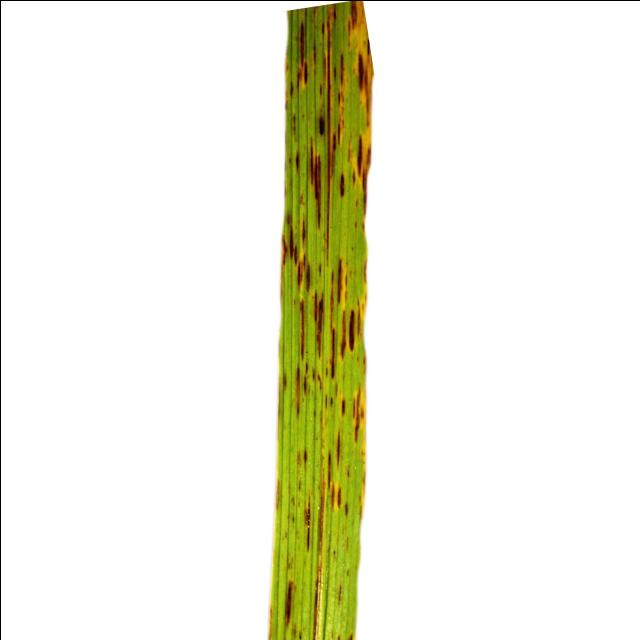Narrow brown: (174, 0, 413, 640)
